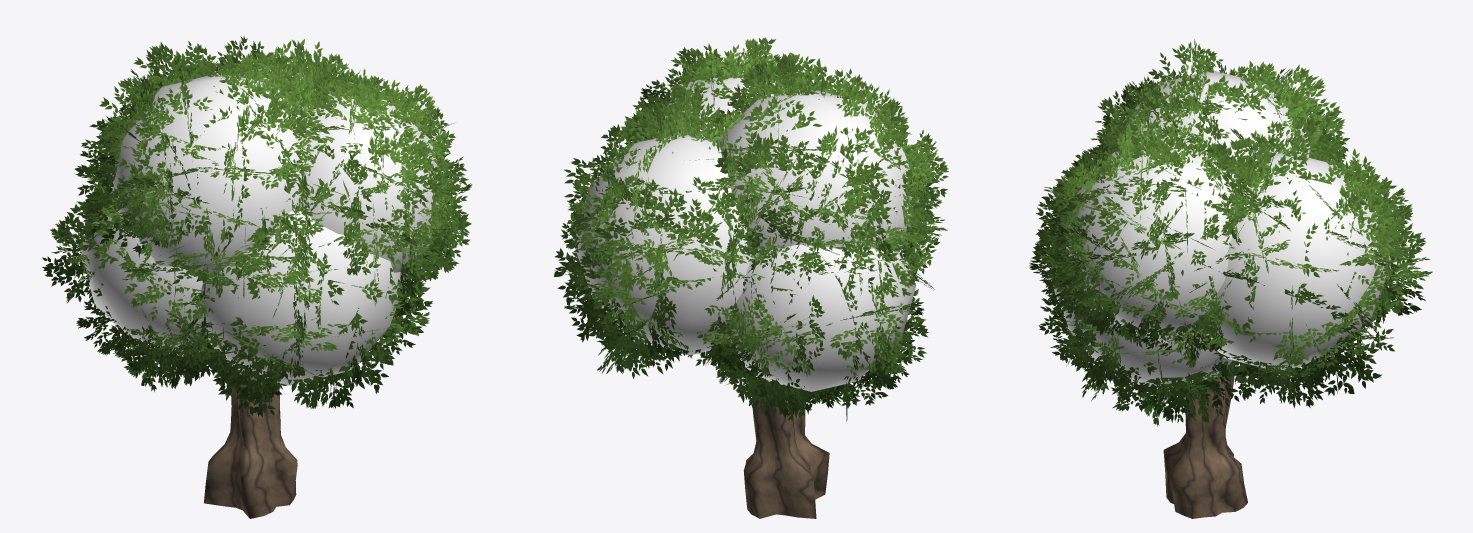
The model's file is ash.gltf.
3 views of the same model, side by side, from view 1: azimuth 30°, elevation 25°; view 2: azimuth 150°, elevation 25°; view 3: azimuth 270°, elevation 25° (orthographic). The views are drawn at different scales.
Parts seen in each view (by area): view 1: ash_leaves_LOD0, ash_shadow_LOD0, ash_trunk_LOD0; view 2: ash_leaves_LOD0, ash_shadow_LOD0, ash_trunk_LOD0; view 3: ash_leaves_LOD0, ash_shadow_LOD0, ash_trunk_LOD0.
Boxes of the visible parts, box(x1,y1,x2,y2) form: ash_leaves_LOD0: box(42, 36, 472, 416); ash_shadow_LOD0: box(80, 65, 446, 385); ash_trunk_LOD0: box(204, 374, 297, 518); ash_leaves_LOD0: box(554, 37, 948, 421); ash_shadow_LOD0: box(575, 72, 919, 391); ash_trunk_LOD0: box(743, 380, 829, 518); ash_leaves_LOD0: box(1029, 39, 1432, 426); ash_shadow_LOD0: box(1050, 70, 1390, 388); ash_trunk_LOD0: box(1163, 366, 1247, 518).
Size of what is drawn, in the model's own units: 13.05 by 15.11 by 13.94.
3 materials, 2 textured.
